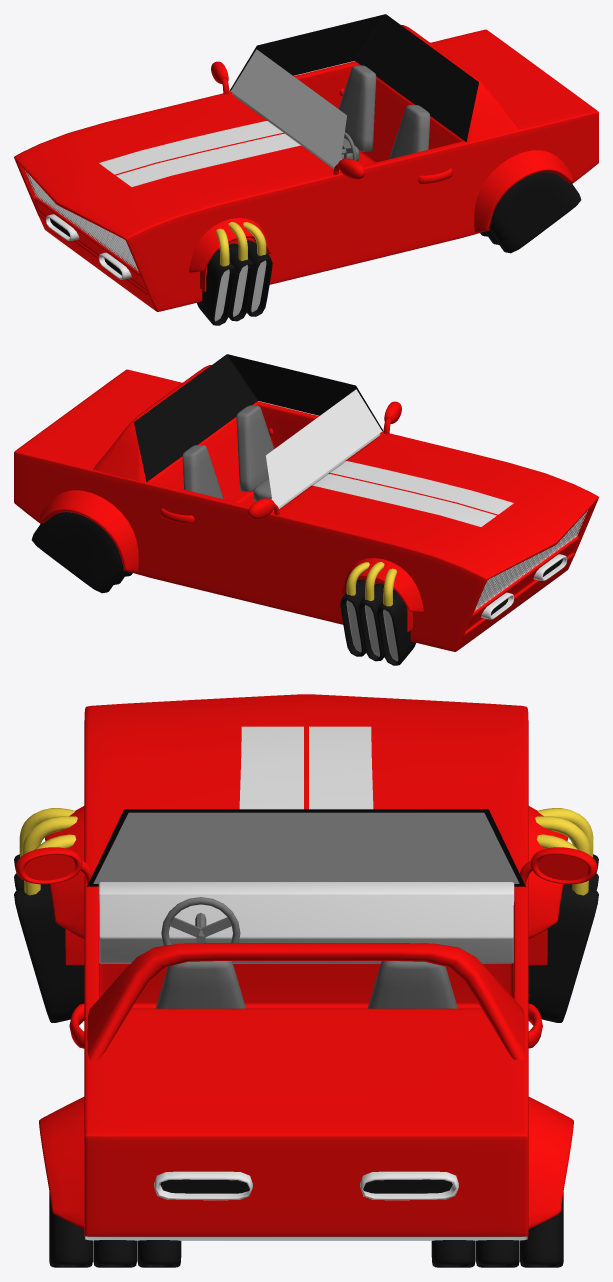
File: FlyingCar.fbx
The picture shows the model from 3 angles, top to bottom: view 1: azimuth 30°, elevation 25°; view 2: azimuth 150°, elevation 25°; view 3: azimuth 270°, elevation 25°; orthographic projection. The views are drawn at different scales.
Parts seen in each view (by area): view 1: Car, top, frontGlass, frontEngine_02, backEngine_01; view 2: Car, top, frontGlass, frontEngine_01, backEngine_02; view 3: Car, frontGlass, frontEngine_01, frontEngine_02, backEngine_01, backEngine_02, top.
Boxes of the visible parts, x1=… form: Car: x1=14, y1=25, x2=598, y2=311; top: x1=229, y1=14, x2=478, y2=142; frontGlass: x1=230, y1=49, x2=346, y2=166; frontEngine_02: x1=197, y1=222, x2=272, y2=325; backEngine_01: x1=480, y1=172, x2=581, y2=253; Car: x1=14, y1=365, x2=598, y2=651; top: x1=134, y1=354, x2=383, y2=482; frontGlass: x1=266, y1=389, x2=382, y2=506; frontEngine_01: x1=340, y1=562, x2=415, y2=665; backEngine_02: x1=31, y1=512, x2=132, y2=593; Car: x1=15, y1=694, x2=597, y2=1240; frontGlass: x1=93, y1=812, x2=519, y2=883; frontEngine_01: x1=528, y1=808, x2=598, y2=1022; frontEngine_02: x1=14, y1=808, x2=84, y2=1022; backEngine_01: x1=49, y1=1192, x2=181, y2=1267; backEngine_02: x1=431, y1=1192, x2=563, y2=1267; top: x1=86, y1=809, x2=526, y2=887.
Size of the model in its own units: 12559 by 3996 by 6579.
